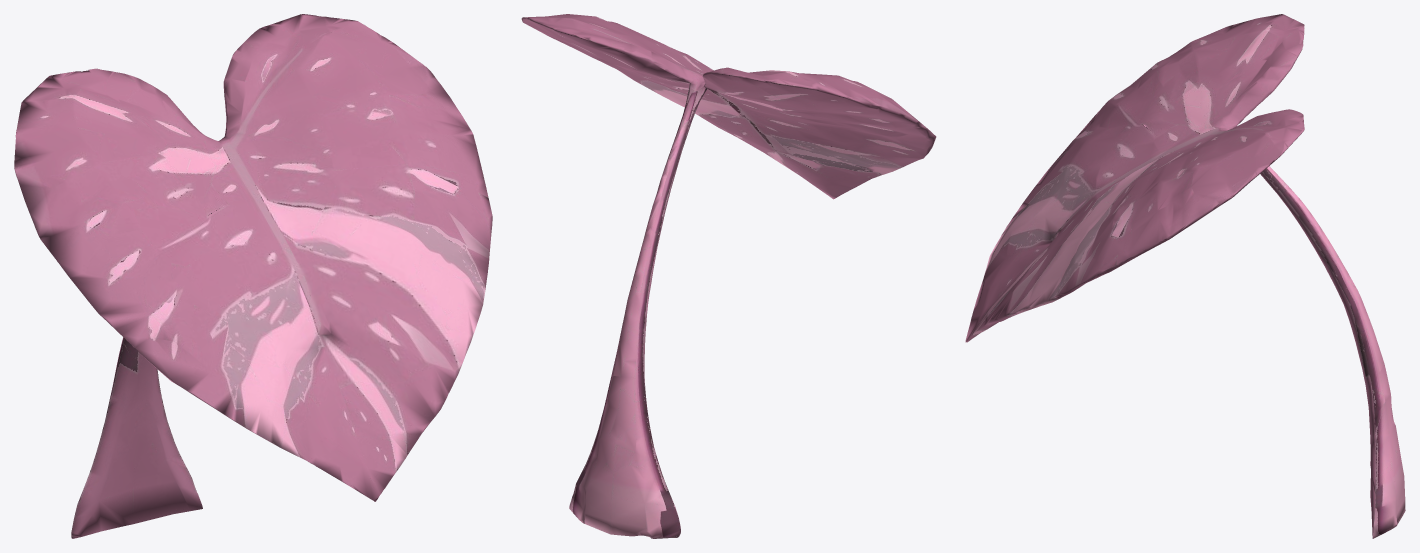
Rendered from pp_leaf_mature_allpink.glb.
3 renders of one model, left to right at view 1: azimuth 30°, elevation 25°; view 2: azimuth 150°, elevation 25°; view 3: azimuth 270°, elevation 25°, orthographic. The views are drawn at different scales.
Bounding box in the file's own units: 1.68 × 1.9 × 1.74.
1 material, 1 textured.
